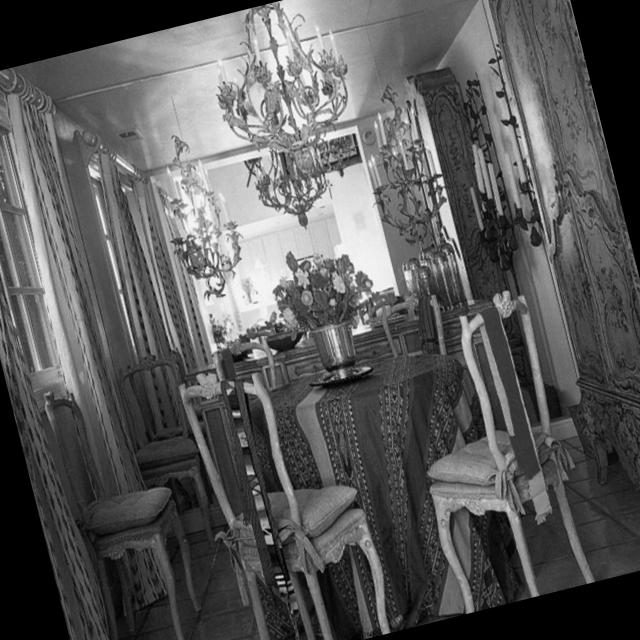2001: (0, 107, 63, 378)
armoire: (488, 0, 640, 485)
bowl -X: (266, 328, 303, 350)
candle stick holder: (469, 39, 545, 269)
canister: (431, 240, 467, 310), (417, 263, 436, 291)
chair: (382, 293, 445, 353)
chair -occluded-: (179, 371, 390, 640), (429, 289, 597, 613), (43, 389, 203, 640), (118, 351, 218, 547), (213, 336, 277, 399)
chandleier: (215, 0, 349, 172)
curtain crop: (10, 76, 167, 611), (0, 260, 114, 640)
decorative cloth: (220, 377, 301, 640), (476, 303, 553, 522), (419, 292, 437, 343), (220, 346, 236, 375)
flowers in urn: (269, 248, 374, 379)
plate food: (309, 365, 374, 386)
seat occluded: (214, 484, 356, 605), (427, 429, 576, 514), (77, 487, 171, 560), (135, 436, 198, 468)
side: (185, 299, 507, 519)
table crop: (249, 353, 516, 640)
wall outlet: (53, 0, 581, 536)
